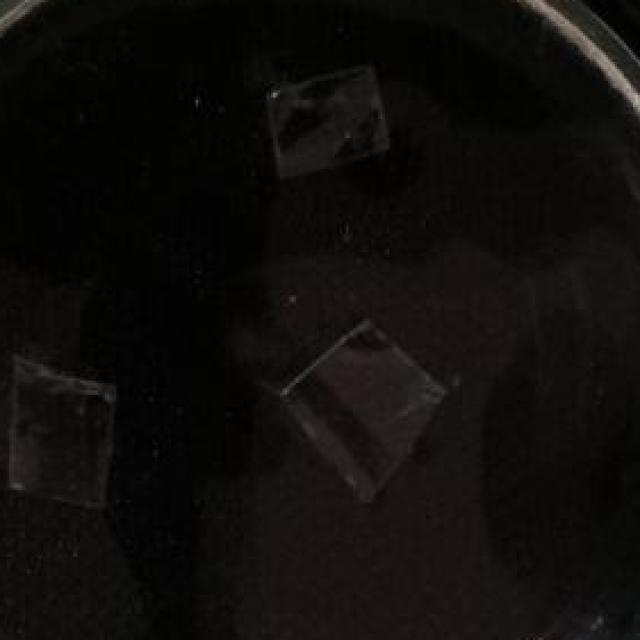Microplastic: (271, 307, 451, 509), (0, 342, 125, 516), (253, 67, 401, 183)
